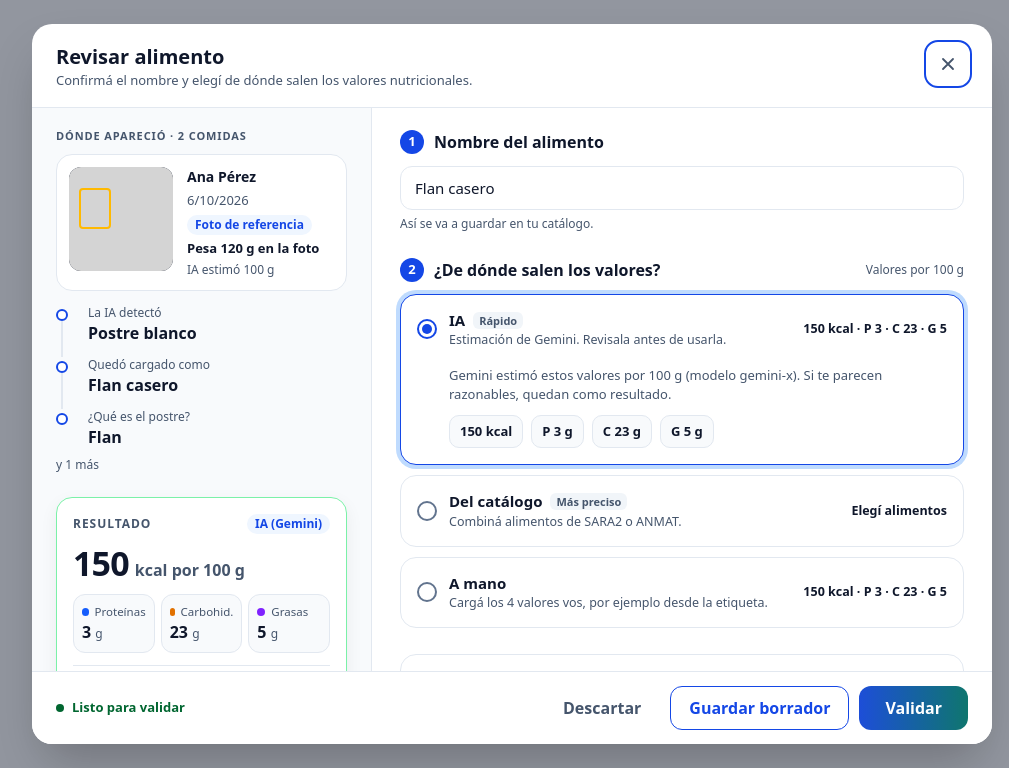
PendienteDetalle — borrador › "Guardar borrador" en IA manda la composición, avisa y refresca el listado
Expected: the field named "Nombre" is shown, [400, 166, 964, 210]
Click the button "Guardar borrador".
click(760, 708)  # box [670, 686, 849, 730]
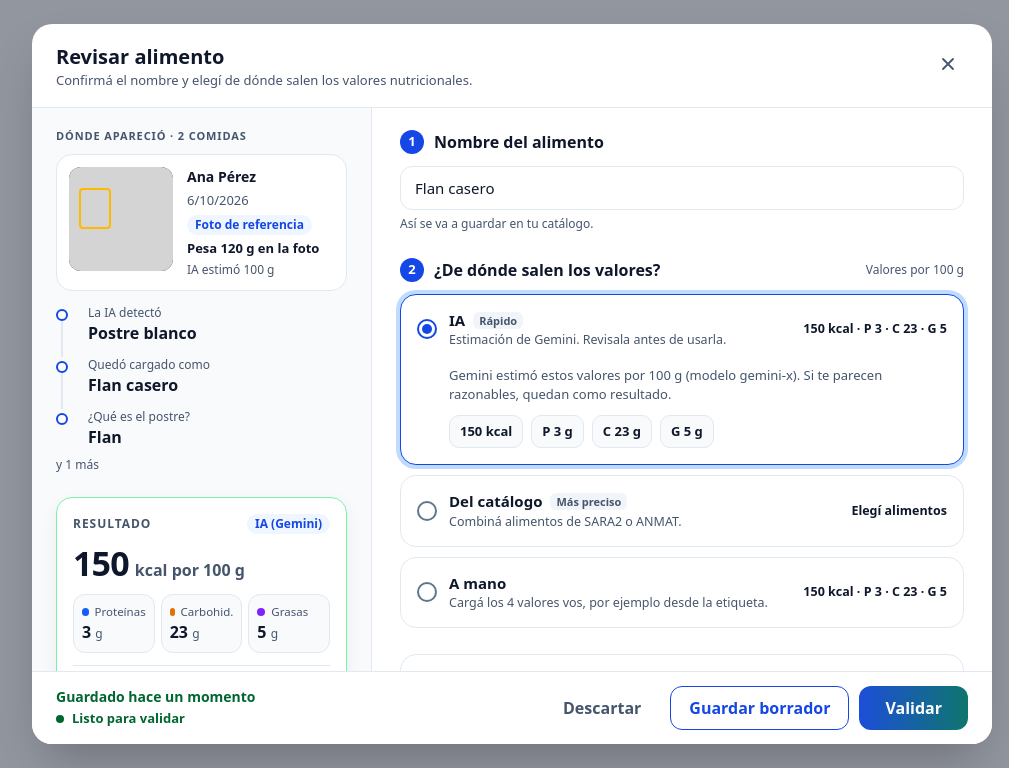
Result: the text "Guardado hace un momento" is shown at [56, 687, 256, 706]
